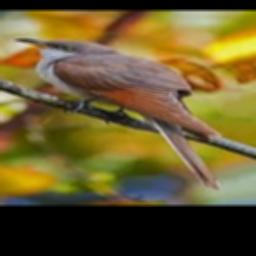Cuckoo: (13, 37, 222, 189)
